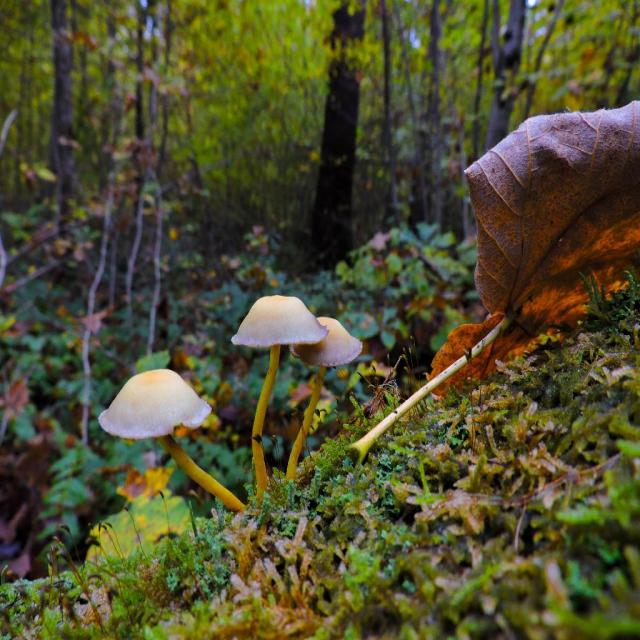Mushroom: (232, 294, 330, 510), (100, 370, 244, 510), (289, 315, 361, 489)
